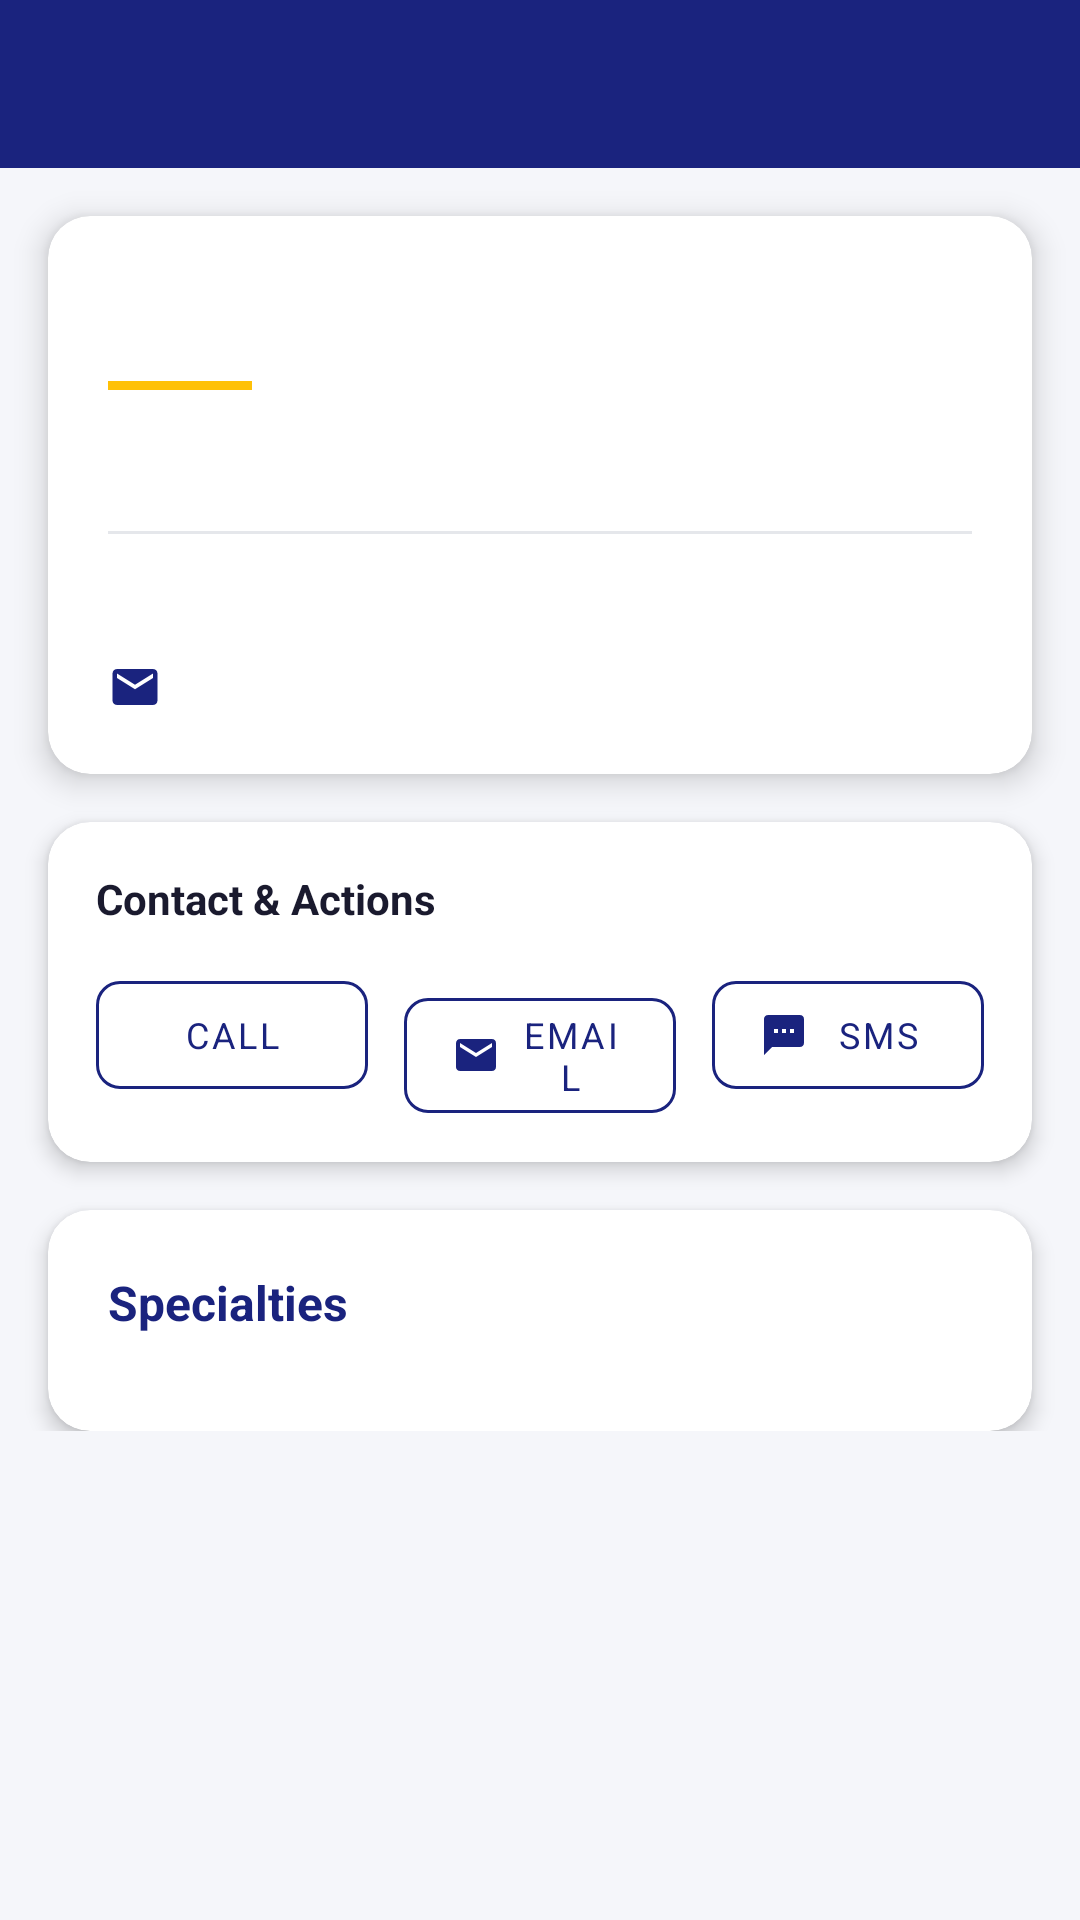

Named icons in this screenshot (1080w x 1920h) and their centers, point (x, y):
email: point (135, 687)
